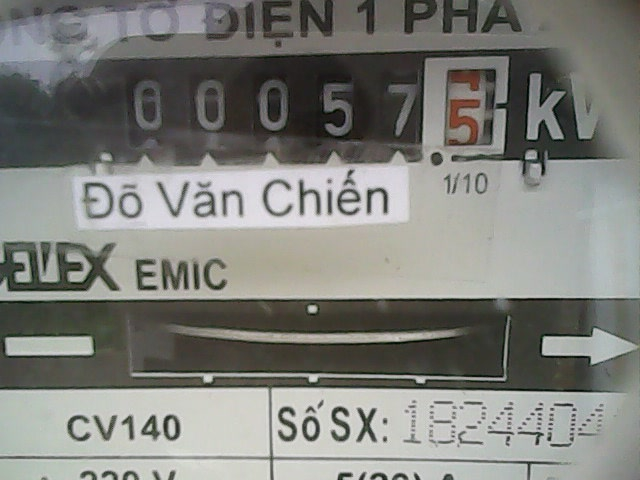phy_plate: (110, 54, 520, 164)
